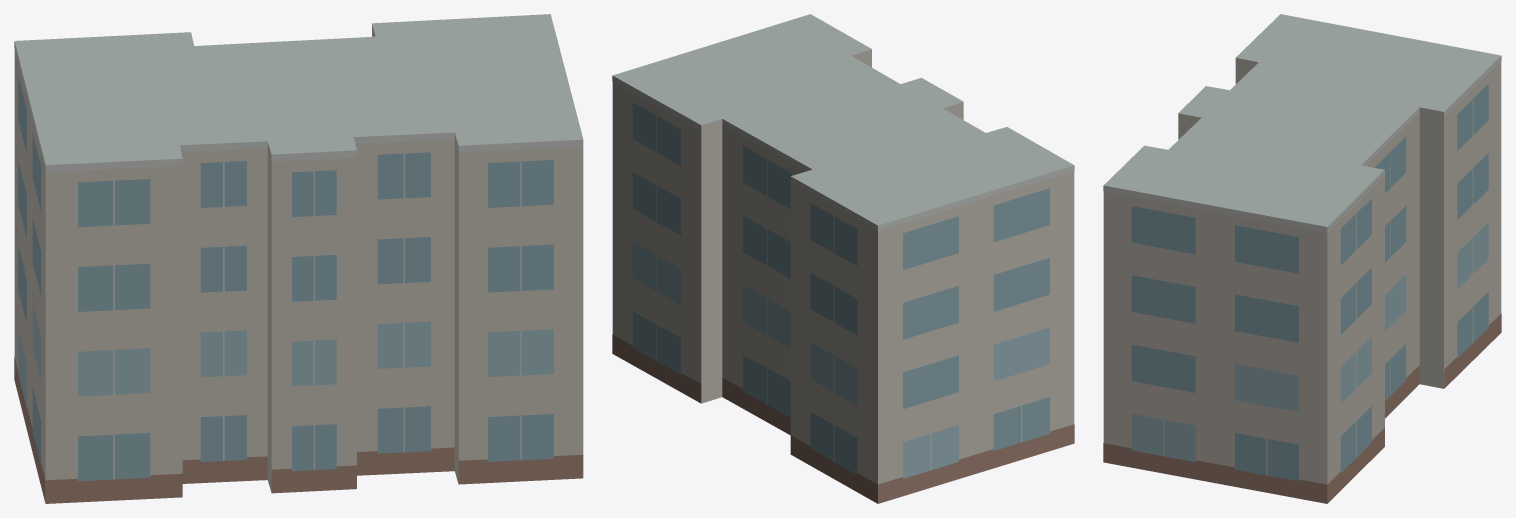
File: survey-upis-32532141.glb
The picture shows the model from 3 angles, left to right: view 1: azimuth 30°, elevation 25°; view 2: azimuth 150°, elevation 25°; view 3: azimuth 270°, elevation 25°; orthographic projection. The views are drawn at different scales.
Parts seen in each view (by area): view 1: survey-upis-32532141.tmp; view 2: survey-upis-32532141.tmp; view 3: survey-upis-32532141.tmp.
Boxes of the visible parts, x1,y1,x2,y2 form: survey-upis-32532141.tmp: [14, 14, 583, 503]; survey-upis-32532141.tmp: [612, 14, 1074, 503]; survey-upis-32532141.tmp: [1103, 14, 1501, 503].
Bounding box in the file's own units: 19.14 × 11.6 × 15.12.
